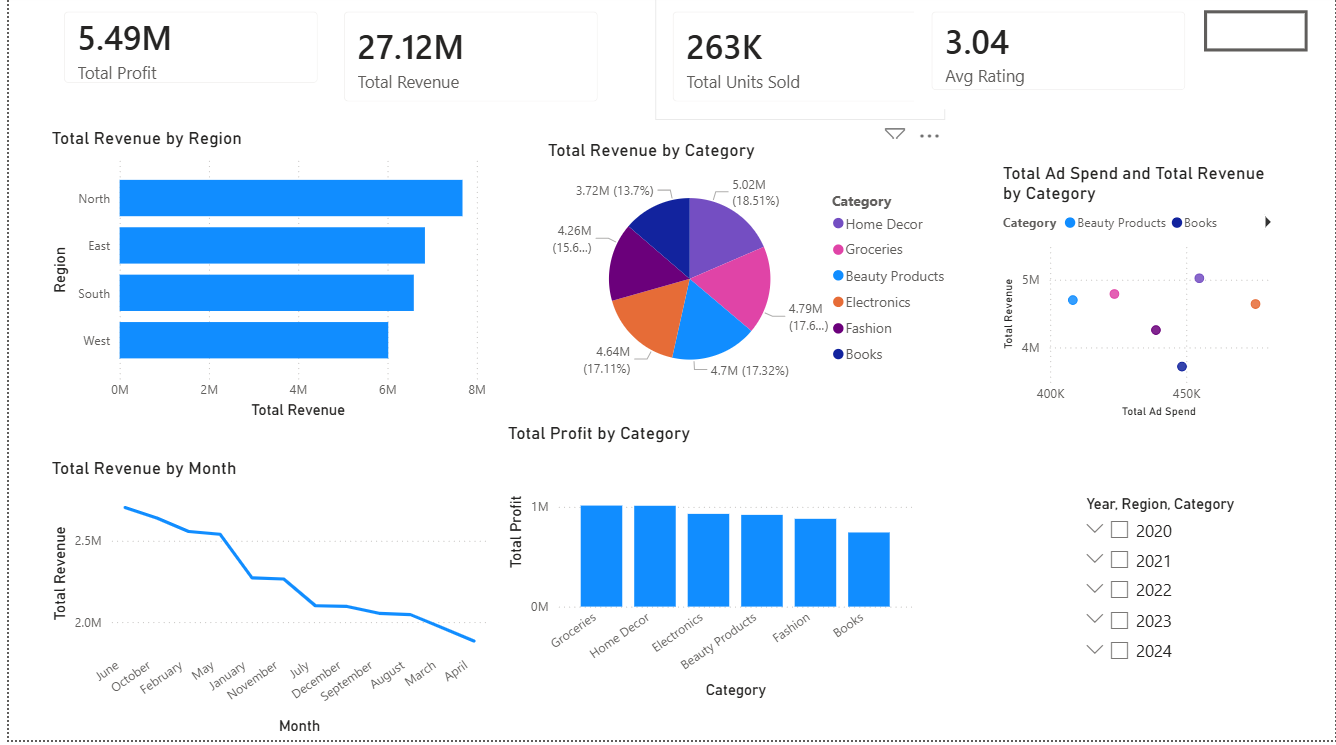

The page's visual inventory and layout, read from the dashboard file:
{"tool":"powerbi","page":{"name":"Dashboard","canvas":[1280,720],"ordinal":0},"visuals":[{"type":"cardVisual","fields":{"Data":["in.Total Profit"]},"box":[36.2,0,279.9,103.8],"z":0},{"type":"cardVisual","fields":{"Data":["in.Total Revenue"]},"box":[306.4,0,279.9,121.9],"z":1},{"type":"cardVisual","fields":{"Data":["in.Total Units Sold"]},"box":[623.7,0,279.9,121.9],"z":2},{"type":"cardVisual","fields":{"Data":["in.Avg Rating"]},"box":[873.5,0,279.9,111],"z":3},{"type":"clusteredBarChart","fields":{"Category":["in.Region"],"Y":["in.Total Revenue"]},"box":[35.7,129,429.5,285.4],"z":4},{"type":"pieChart","fields":{"Category":["in.Category"],"Y":["in.Total Revenue"]},"box":[514.6,140,402.1,251.1],"z":5},{"type":"columnChart","fields":{"Category":["in.Category"],"Y":["in.Total Profit"]},"box":[476.5,413.8,400.5,271.4],"z":7},{"type":"scatterChart","fields":{"X":["in.Total Ad Spend"],"Y":["in.Total Revenue"],"Series":["in.Category"]},"box":[954.3,162.9,279.9,250.9],"z":8},{"type":"slicer","fields":{"Values":["in.Year","in.Region","in.Category"]},"box":[1026.7,479,253.4,241.3],"z":9},{"type":"lineChart","fields":{"Category":["in.Month"],"Y":["in.Total Revenue"]},"box":[36,447,430,272],"z":10},{"type":"actionButton","box":[1153.4,15.7,100.1,39.8],"z":11}]}

Visuals, with their boxes in screenshot pixels (x1, y1, x2, y2), scaled from the page's 1280x720 canvas onto the 1336x745 screenshot:
cardVisual - in.Total Profit: (x1=38, y1=0, x2=330, y2=107)
cardVisual - in.Total Revenue: (x1=320, y1=0, x2=612, y2=126)
cardVisual - in.Total Units Sold: (x1=651, y1=0, x2=943, y2=126)
cardVisual - in.Avg Rating: (x1=912, y1=0, x2=1204, y2=115)
clusteredBarChart - in.Region x in.Total Revenue: (x1=37, y1=133, x2=486, y2=429)
pieChart - in.Category x in.Total Revenue: (x1=537, y1=145, x2=957, y2=405)
columnChart - in.Category x in.Total Profit: (x1=497, y1=428, x2=915, y2=709)
scatterChart - in.Total Ad Spend x in.Total Revenue: (x1=996, y1=169, x2=1288, y2=428)
slicer - in.Year x in.Region: (x1=1072, y1=496, x2=1335, y2=744)
lineChart - in.Month x in.Total Revenue: (x1=38, y1=463, x2=486, y2=744)
actionButton: (x1=1204, y1=16, x2=1308, y2=57)
